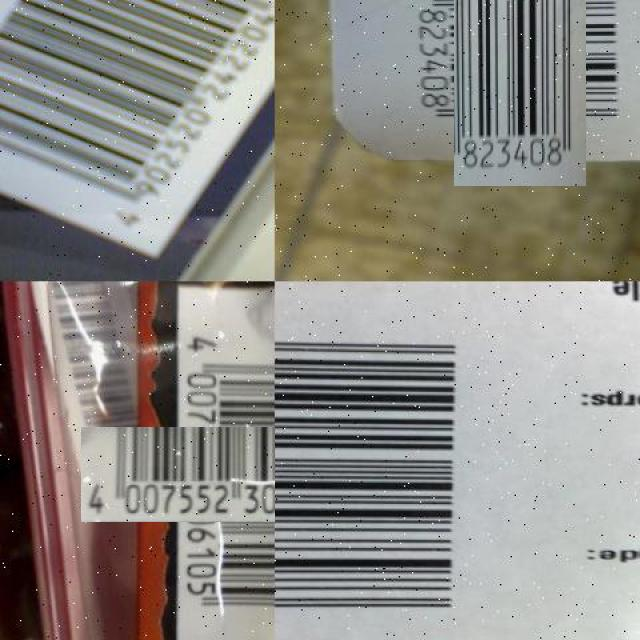Barcode: (0, 0, 274, 261), (275, 294, 473, 630), (130, 378, 323, 571), (427, 0, 613, 159)
